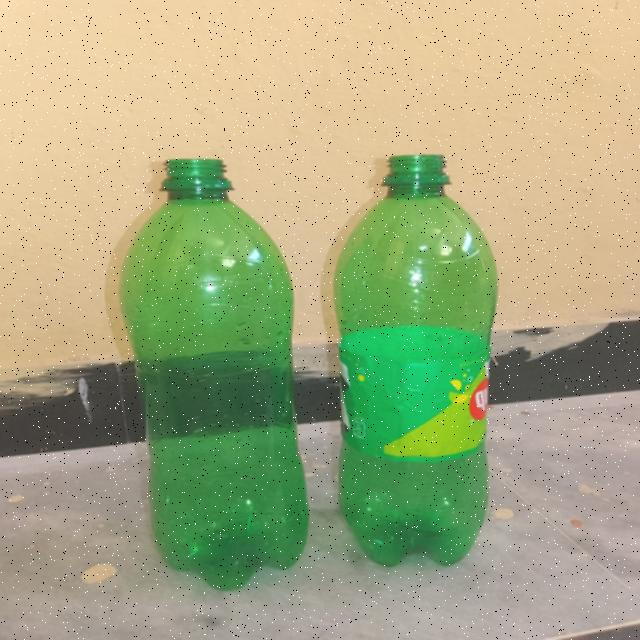bottle: (112, 136, 322, 592), (328, 135, 508, 578)
label: (342, 338, 494, 468)
